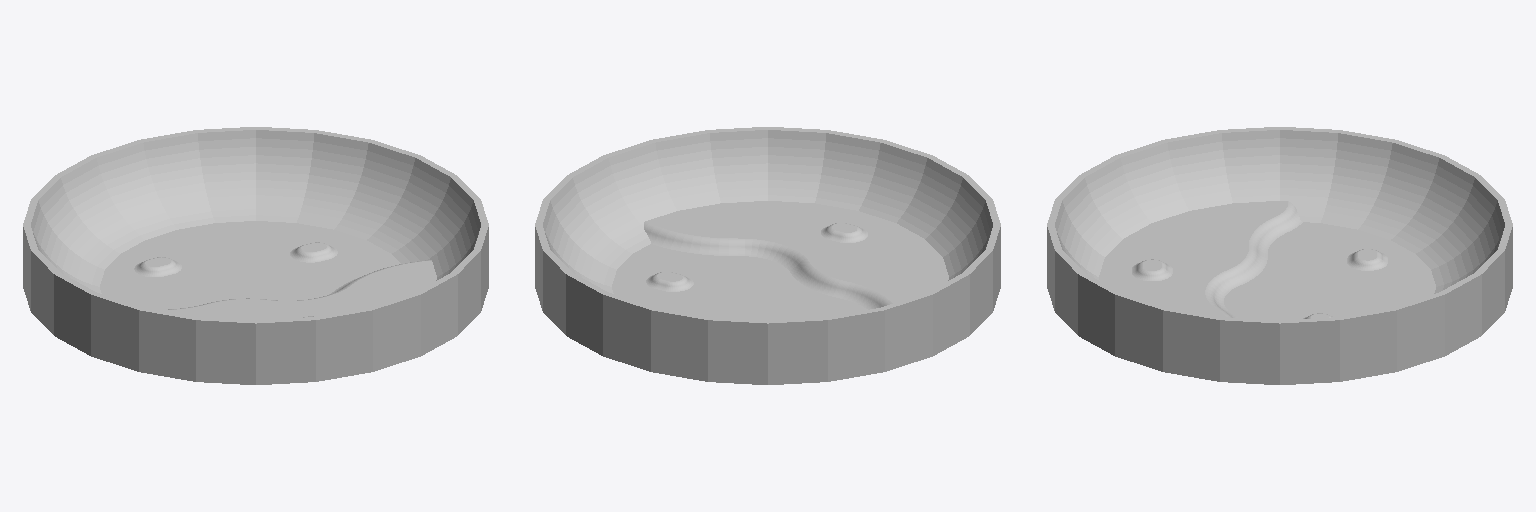
The model's file is Arena.obj.
The picture shows the model from 3 angles: view 1: azimuth 30°, elevation 25°; view 2: azimuth 150°, elevation 25°; view 3: azimuth 270°, elevation 25°; orthographic projection.
Parts seen in each view (by area): view 1: instance_0.001_ID14, instance_0_ID6, instance_2.001_ID42, instance_1.001_ID42; view 2: instance_0.001_ID14, instance_0_ID6, instance_3.001_ID42, instance_2.001_ID42; view 3: instance_0.001_ID14, instance_0_ID6, instance_1.001_ID42, instance_3.001_ID42.
Boxes of the visible parts, x1,y1,x2,y2 form: instance_0.001_ID14: [31, 130, 480, 319]; instance_0_ID6: [23, 127, 488, 384]; instance_2.001_ID42: [290, 242, 337, 262]; instance_1.001_ID42: [134, 257, 181, 276]; instance_0.001_ID14: [543, 130, 992, 319]; instance_0_ID6: [535, 127, 1000, 384]; instance_3.001_ID42: [821, 223, 867, 242]; instance_2.001_ID42: [646, 272, 693, 291]; instance_0.001_ID14: [1055, 130, 1504, 319]; instance_0_ID6: [1047, 127, 1512, 384]; instance_1.001_ID42: [1347, 249, 1387, 270]; instance_3.001_ID42: [1132, 259, 1172, 280].
Size of the model in its own units: 109 by 15.99 by 109.